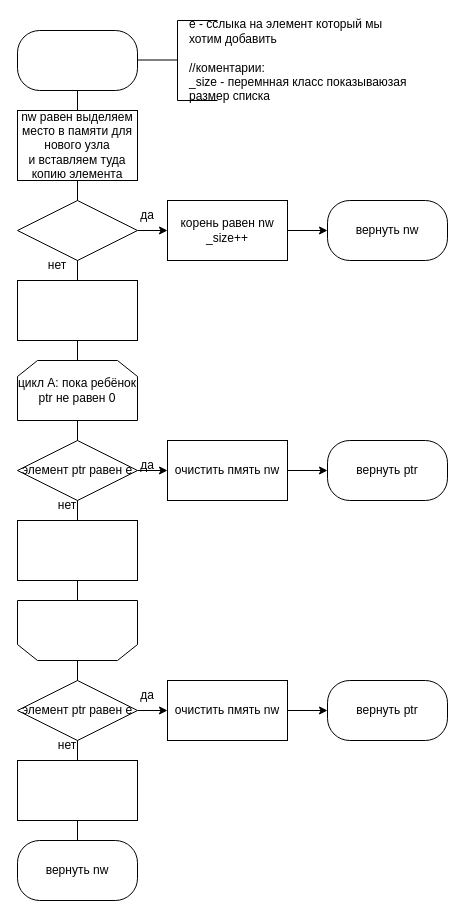
The diagram is 465 pixels wide and 918 high, and some of its shapes have lost their labels. The box of each missing label's shape, as (x1, y1, x2, y2) in pixels:
ptr равен ребёнку ptr: (16, 520, 138, 580)
ptr равен указателю на корень: (16, 280, 138, 340)
корень равен 0: (16, 200, 138, 260)
начало: (16, 30, 138, 90)
ребёнок ptr равен nw _size++: (16, 760, 138, 820)
цикл A: (16, 600, 138, 660)
